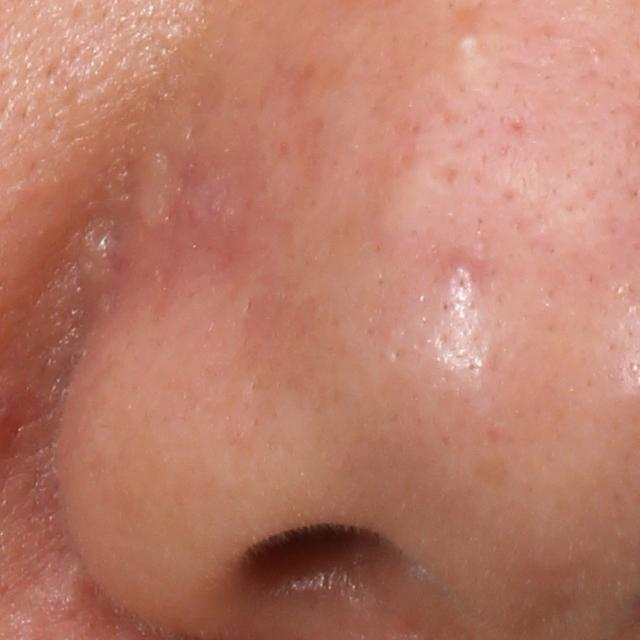hypertrophic_scar: (120, 139, 187, 241)
